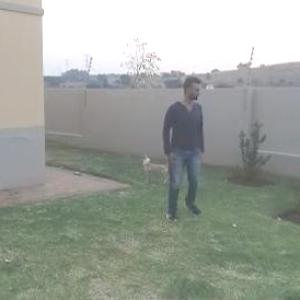follow: (158, 73, 207, 224)
